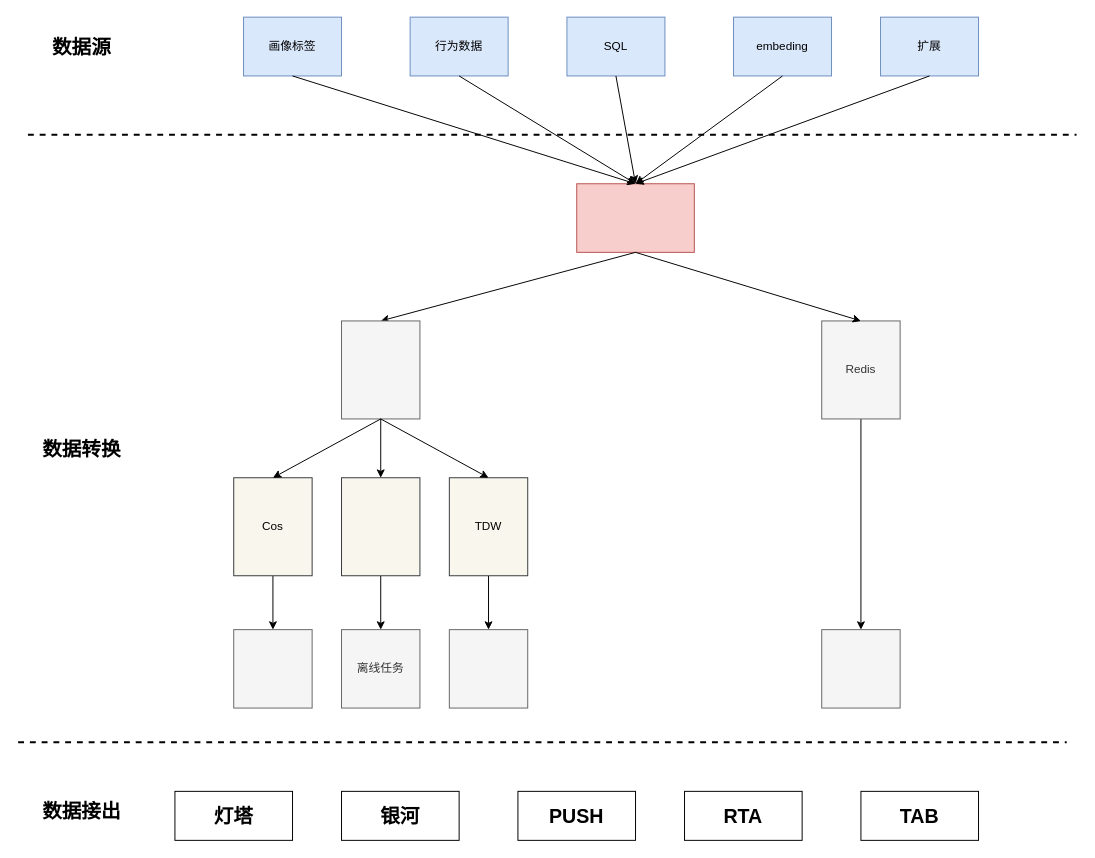
Some shapes in this 1095 by 858 pixel diagram are drawn without their labels. Here are the shapes that lost their labels. From the top down, the box of each, then its label:
(576, 183, 694, 252): Crowd
(341, 320, 420, 419): File
(341, 477, 420, 576): HDFS
(233, 629, 312, 708): 下载
(448, 629, 528, 708): 分析
(821, 629, 900, 708): 服务化
